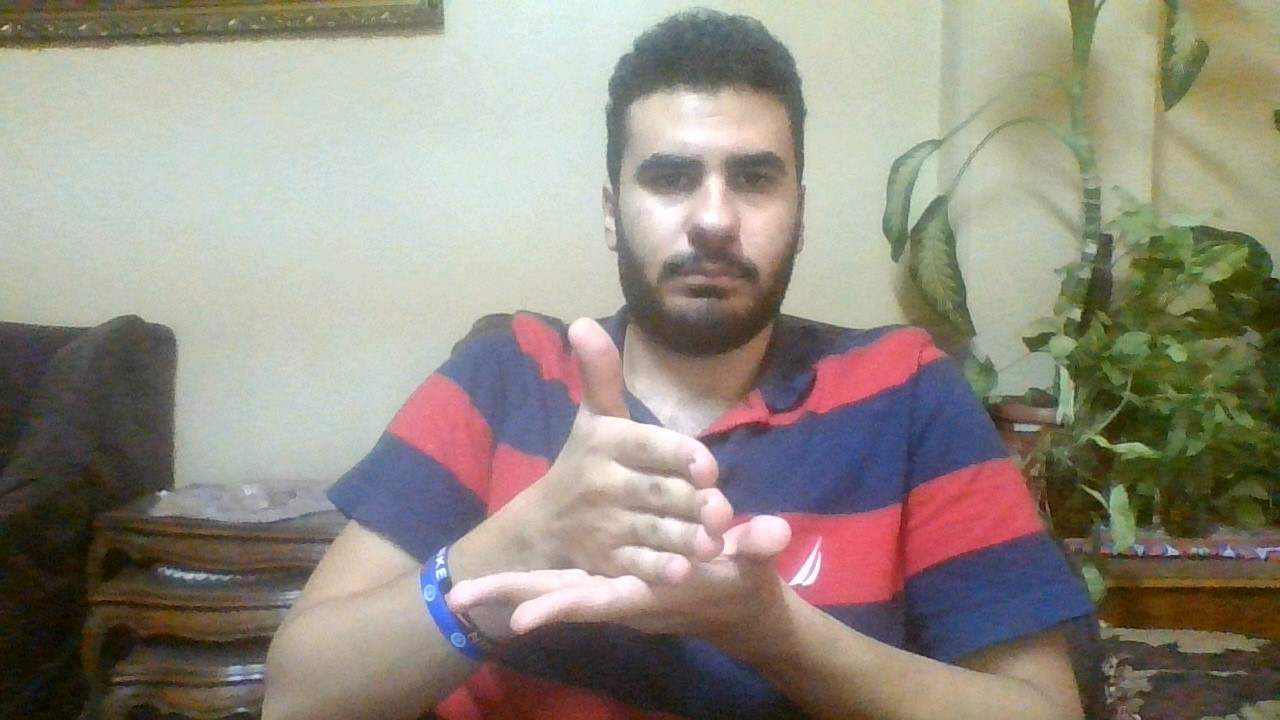stop: (508, 314, 794, 670)
